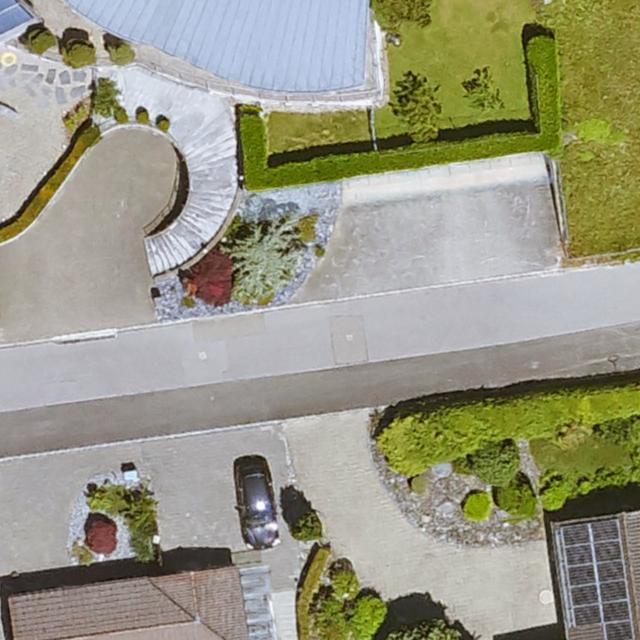tree: (400, 80, 440, 141), (373, 0, 434, 30), (384, 620, 467, 640), (470, 75, 503, 109)
